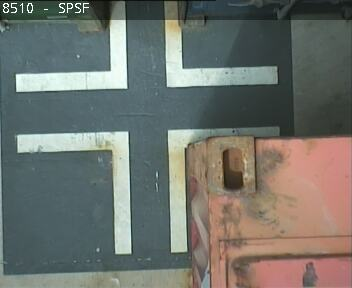groundmarker_1: (17, 123, 277, 251), (15, 1, 277, 92)
